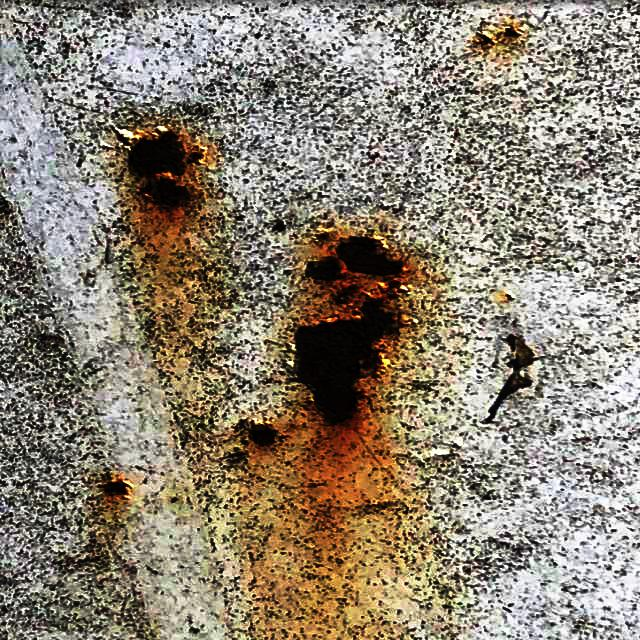Corrosion: (296, 237, 414, 424), (114, 126, 206, 206), (473, 16, 527, 48), (98, 476, 133, 497), (251, 419, 277, 446)
